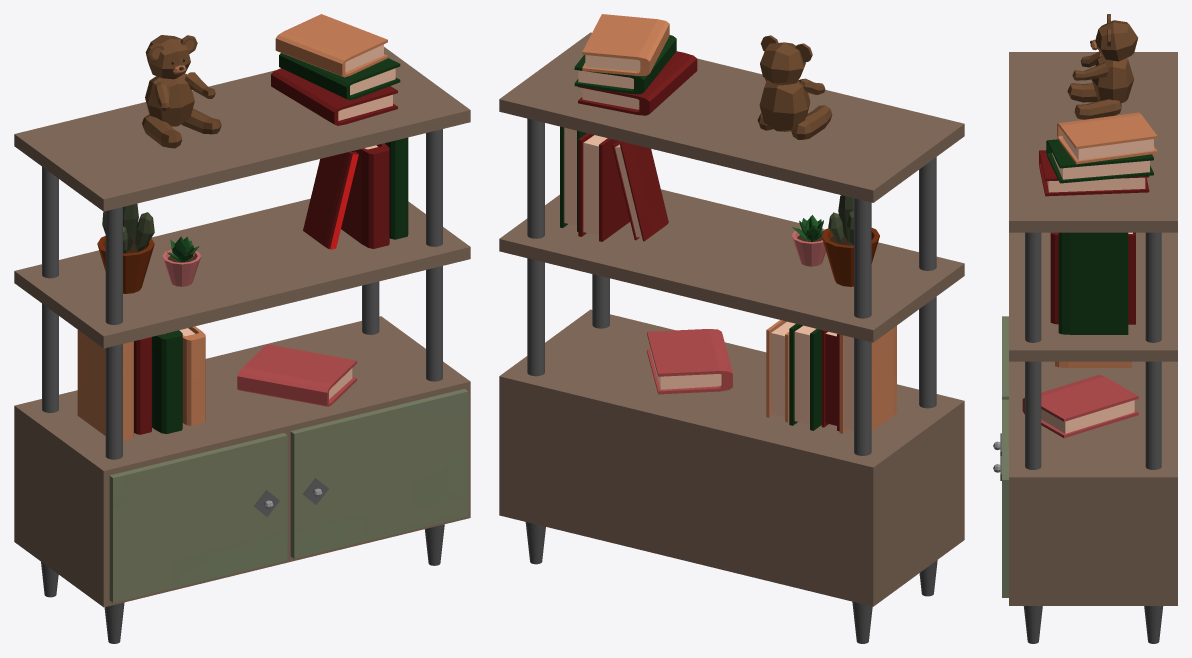
The model's file is bookshelf.glb.
The picture shows the model from 3 angles, left to right: view 1: azimuth 30°, elevation 25°; view 2: azimuth 150°, elevation 25°; view 3: azimuth 270°, elevation 25°; orthographic projection. The views are drawn at different scales.
Parts seen in each view (by area): view 1: capboard_02; view 2: capboard_02; view 3: capboard_02.
Boxes of the visible parts, box(x1,y1,x2,y2) form: capboard_02: box(14, 14, 470, 643); capboard_02: box(499, 14, 964, 643); capboard_02: box(993, 14, 1177, 643).
Size of the model in its own units: 5.63 by 8.04 by 2.6.
Materials: 1 (1 with a texture image).
